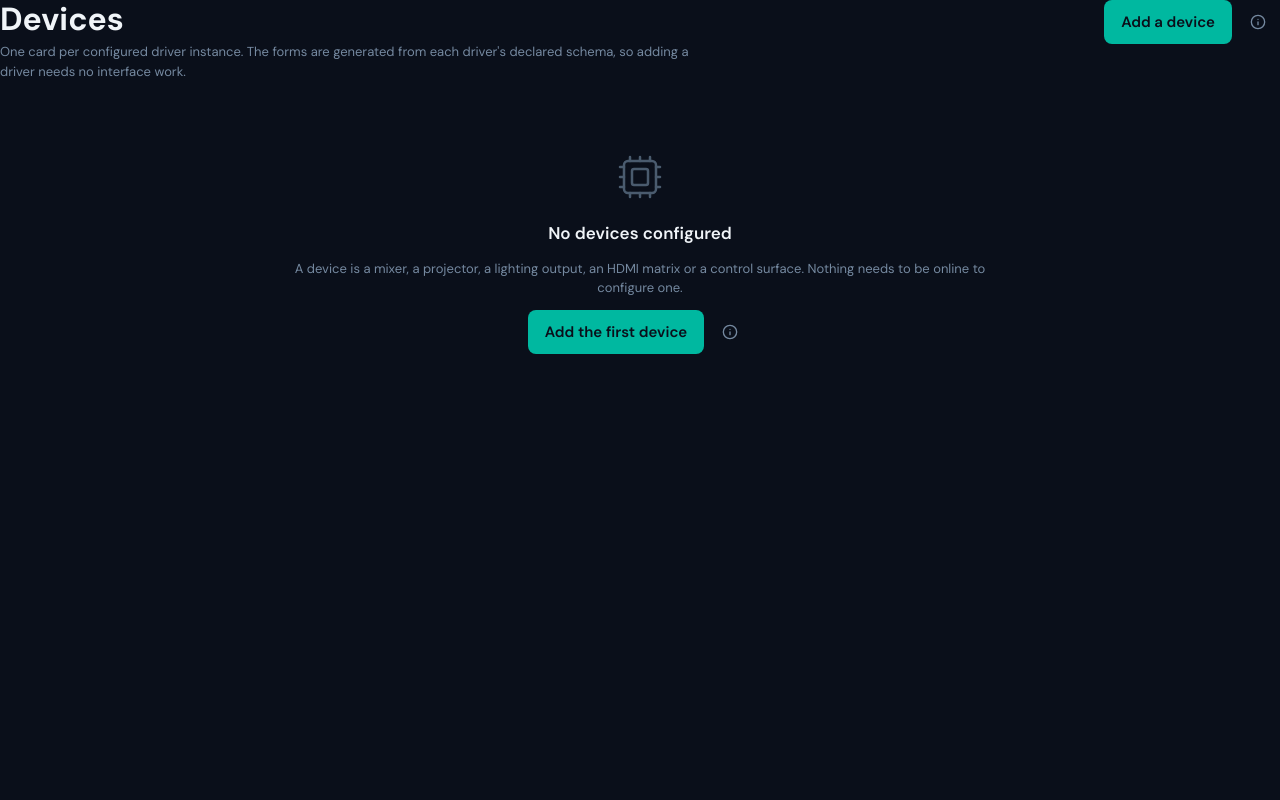
DevicesScreen › offers to add the first device when none is configured
Check: the text "No devices configured" is shown, box [548,221,732,247]
Click the button "Add the first device". click: (616, 332)
box: [528,310,704,354]
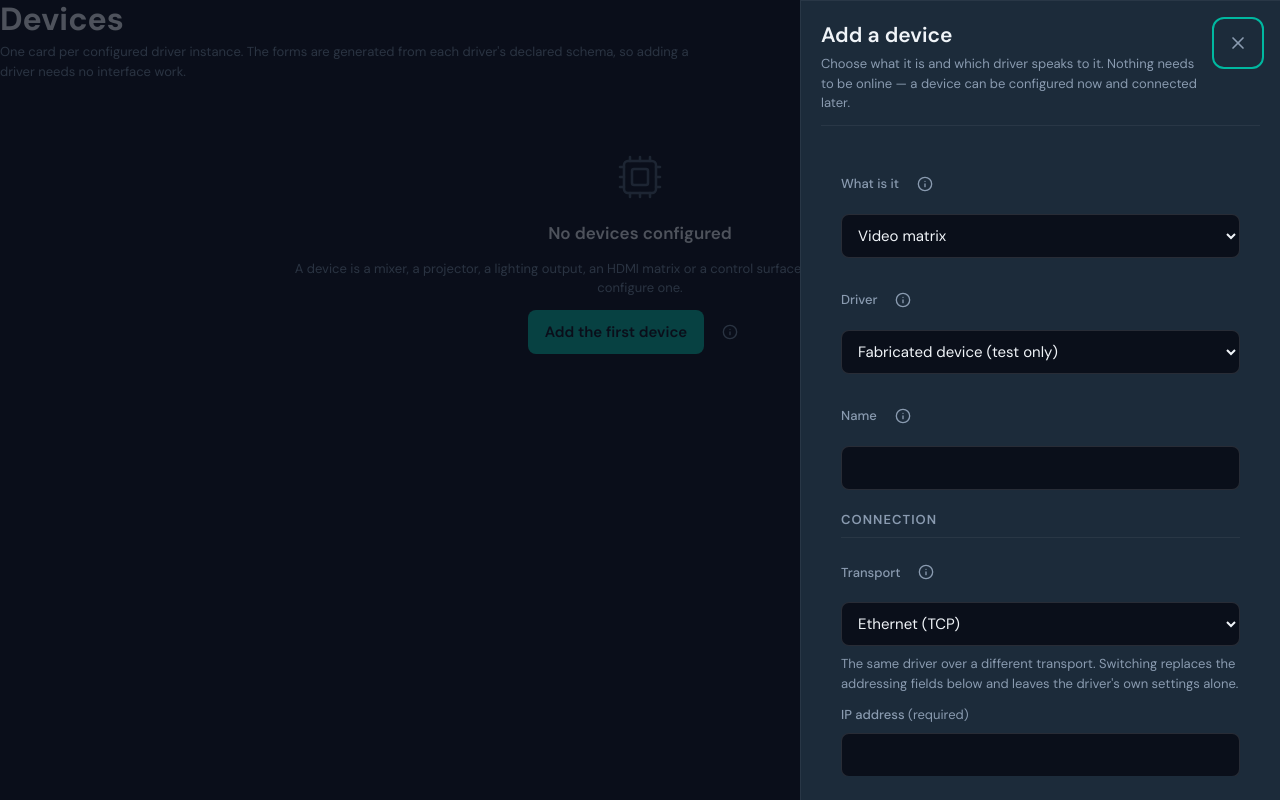
Check: the dialog "Add a device" is shown, box [800,0,1279,799]
